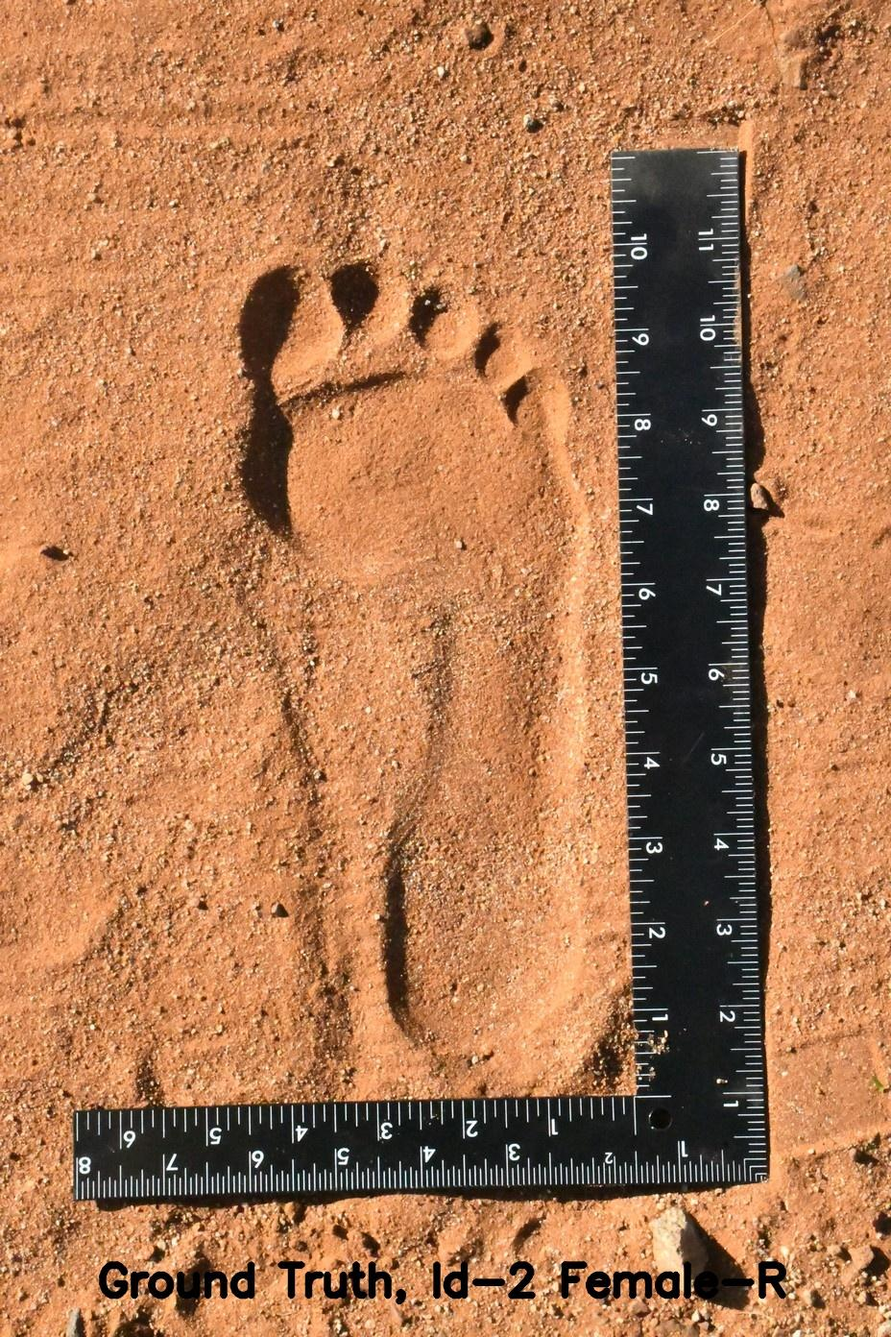human_foot_print: (202, 222, 628, 1082)
